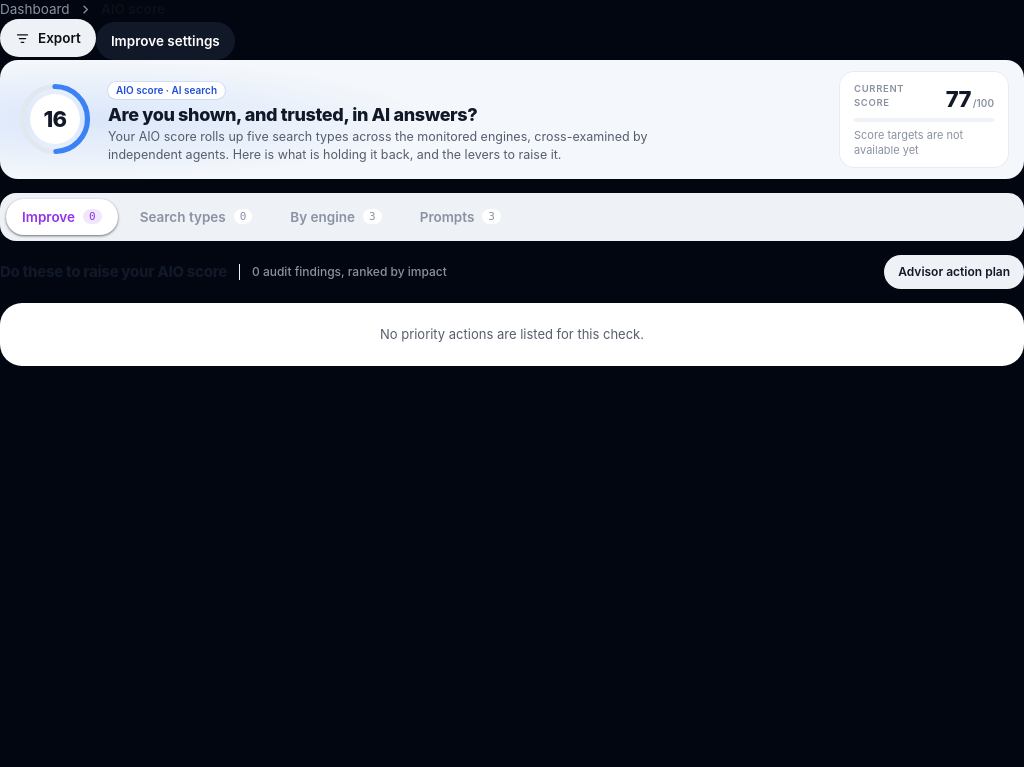
Scenario: ProjectAeoPage (approved AIO detail) › shows the API's own refusal rather than failing silently
Click the tab "Prompts 3" at (460, 217), box [404, 199, 517, 235]
(page scrolled)
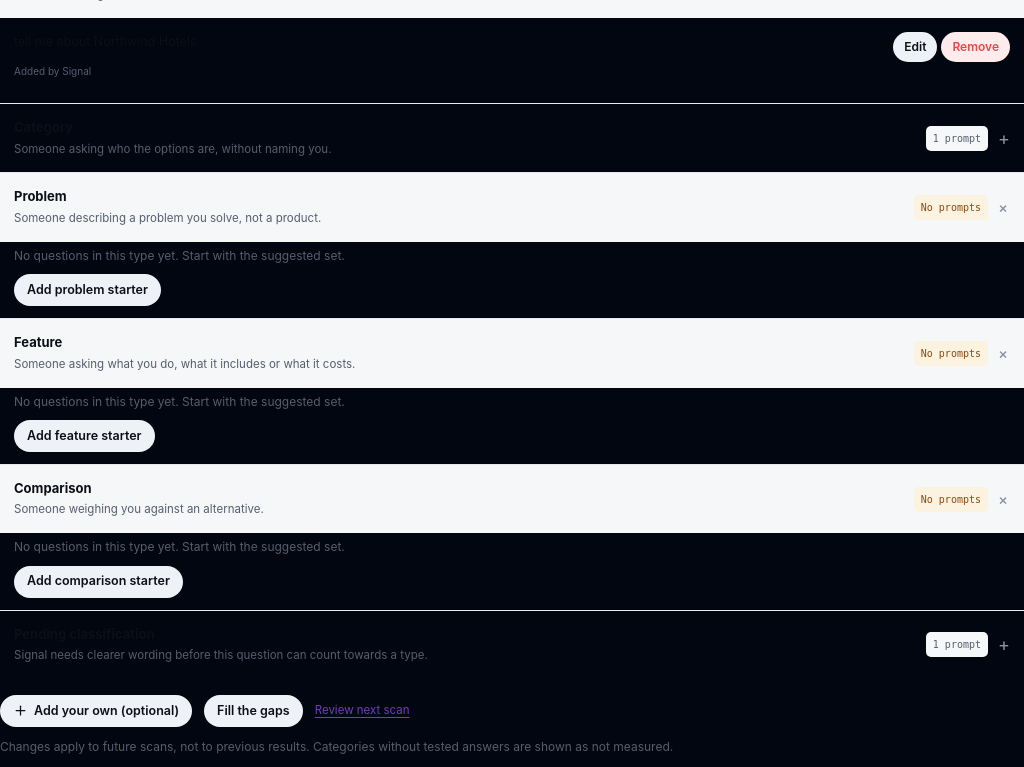
Now the button "Add your own (optional)" is shown
Click the button "Add your own (optional)" at (96, 711), box [0, 695, 192, 727]
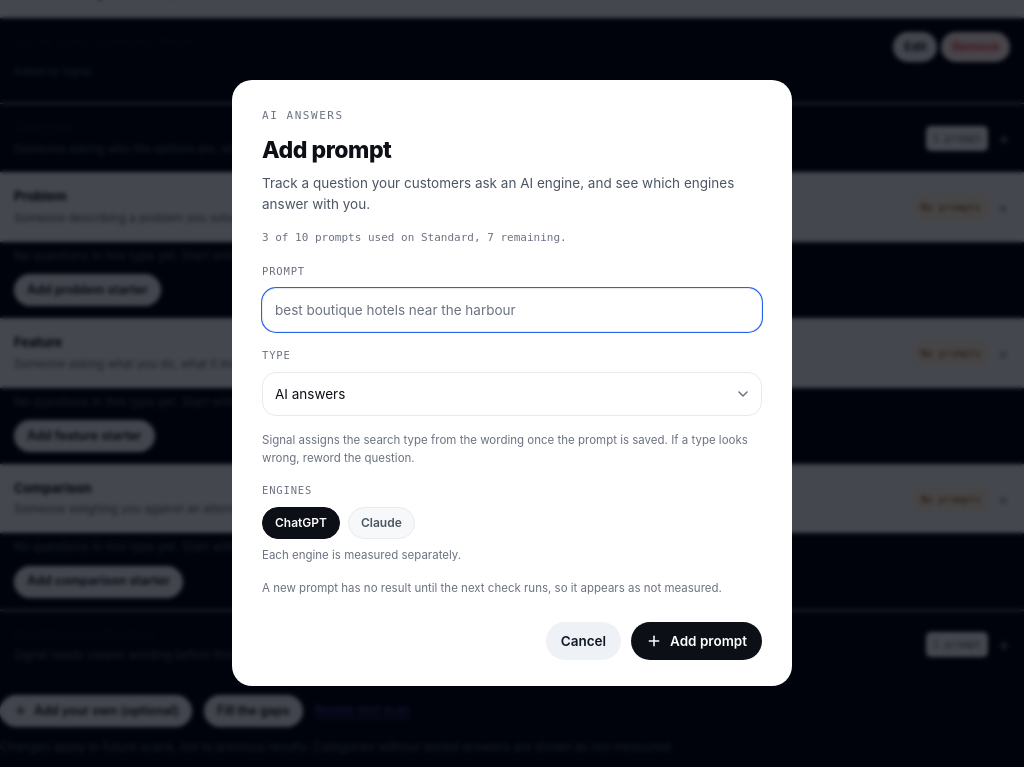
Type "one prompt too many" into the field with placeholder "best boutique hotels near the harbour" at (512, 310), box [262, 288, 762, 332]
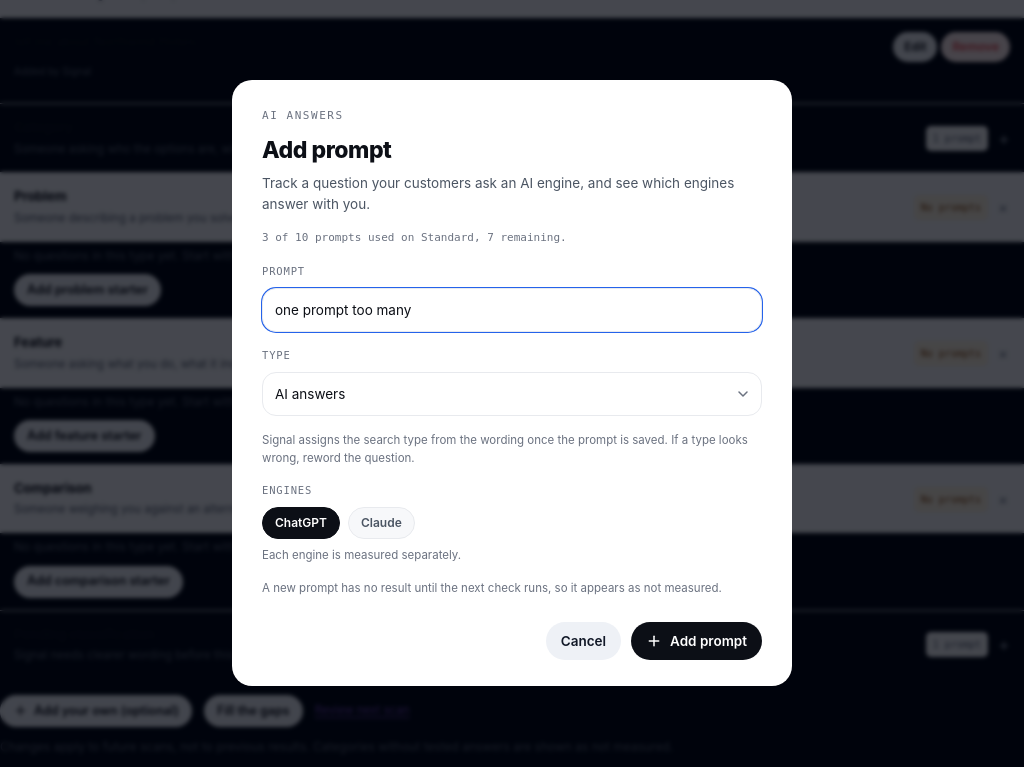
Click the button "Add prompt" at (697, 641), box [631, 622, 762, 660]
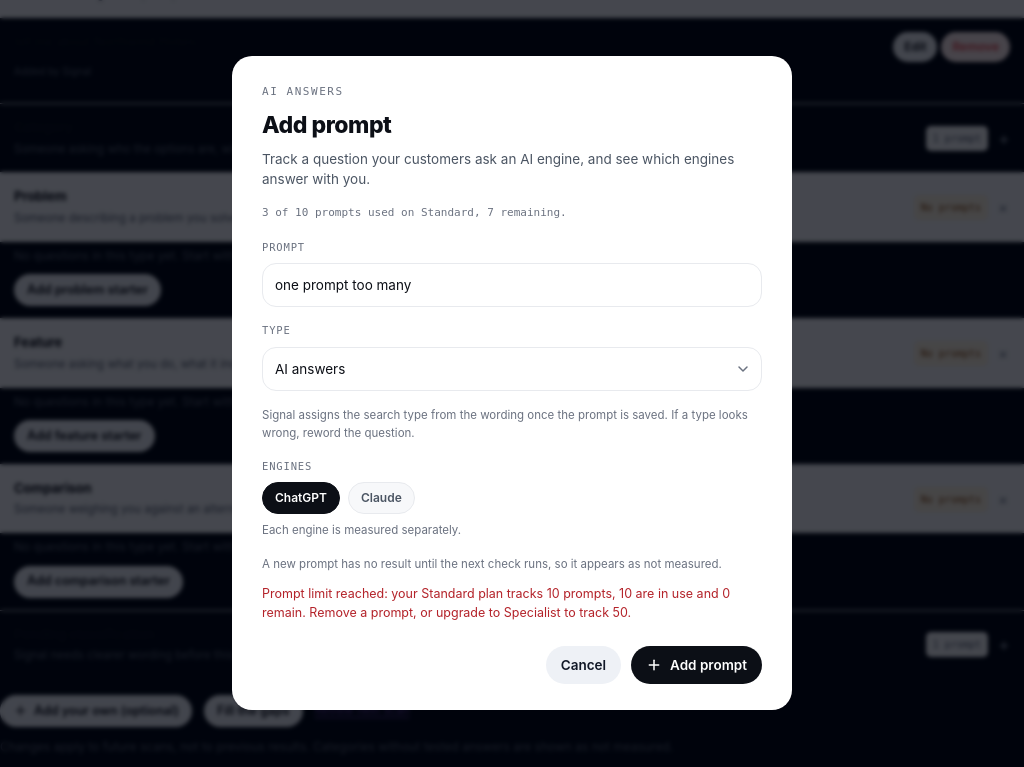
Now the dialog is shown, box [232, 56, 792, 710]
Now the text "Prompt limit reached: your Standard plan" is shown, box [262, 586, 730, 620]
